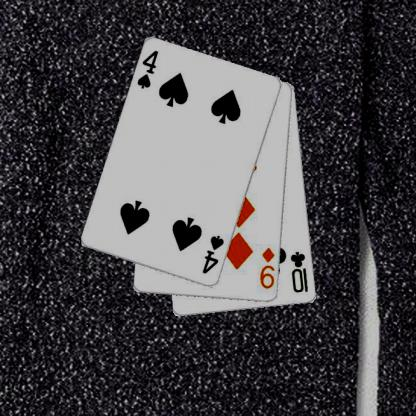10C: (288, 248, 310, 294)
4S: (134, 48, 160, 90), (200, 233, 225, 275)
9D: (258, 245, 276, 291)
